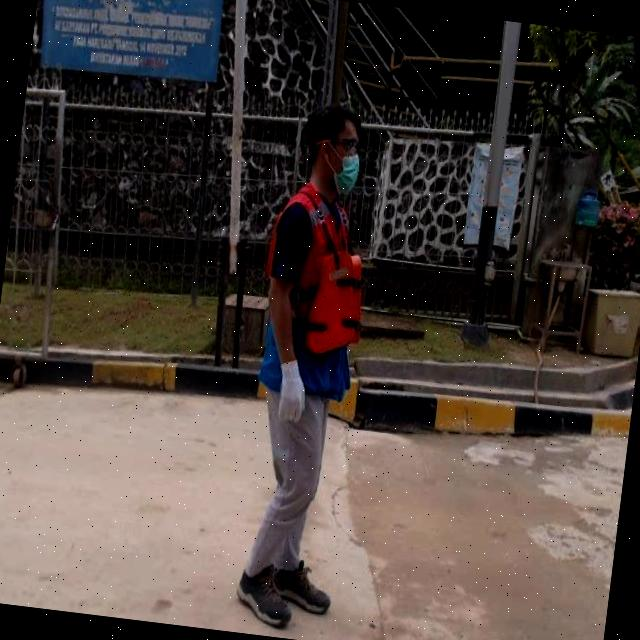vest: (254, 175, 376, 398)
